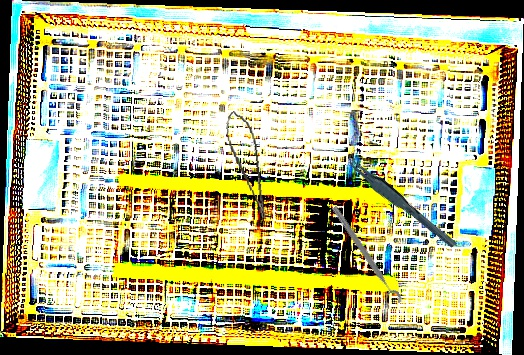Fixation Ring: (324, 203, 404, 311)
Micro Scissor: (222, 108, 270, 222)
Tissue Forceps: (343, 142, 458, 260)
